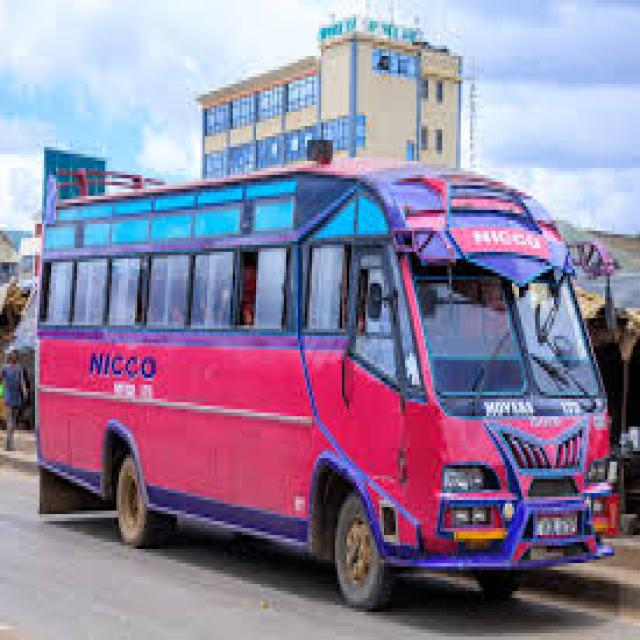bus: (13, 130, 636, 608)
